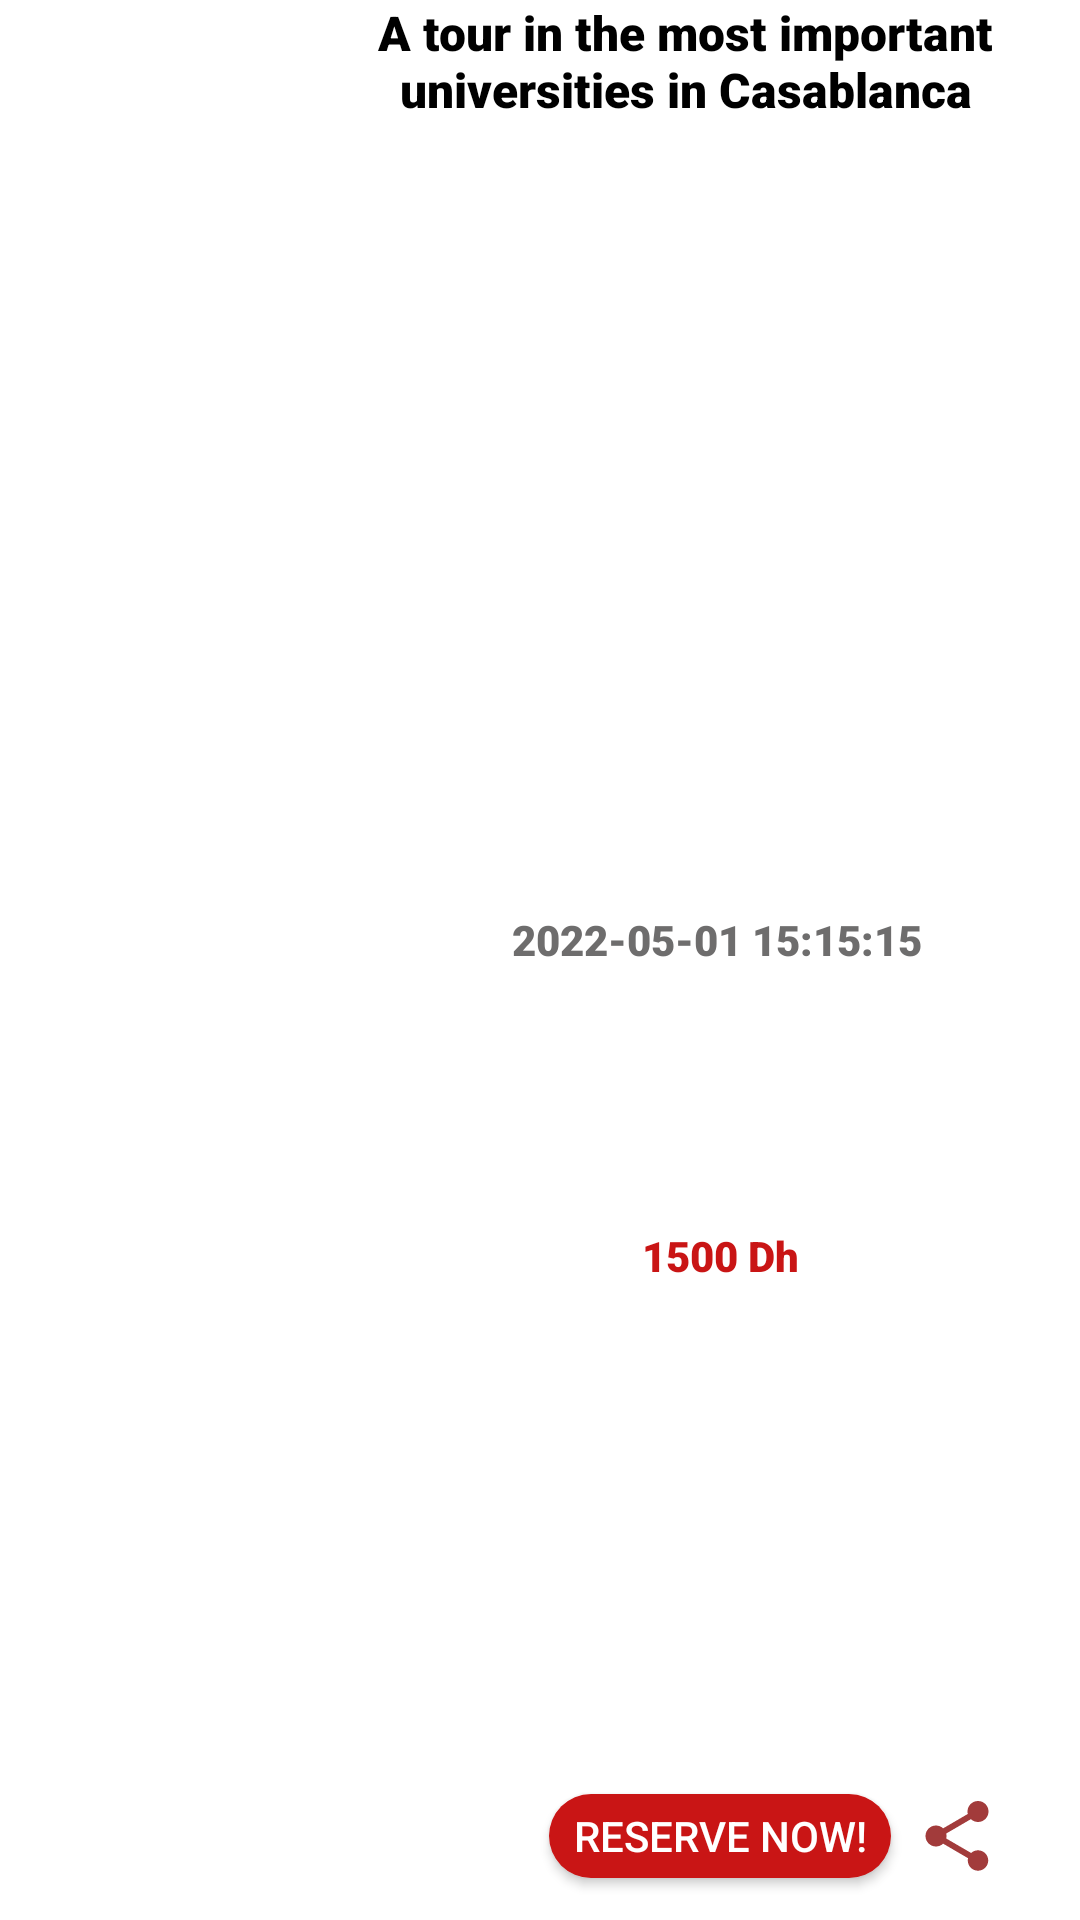

Named icons in this screenshot (1080px×1920px) and their bounding boxes, (x1, y1, x2, y2):
share: (925, 1801, 989, 1871)
